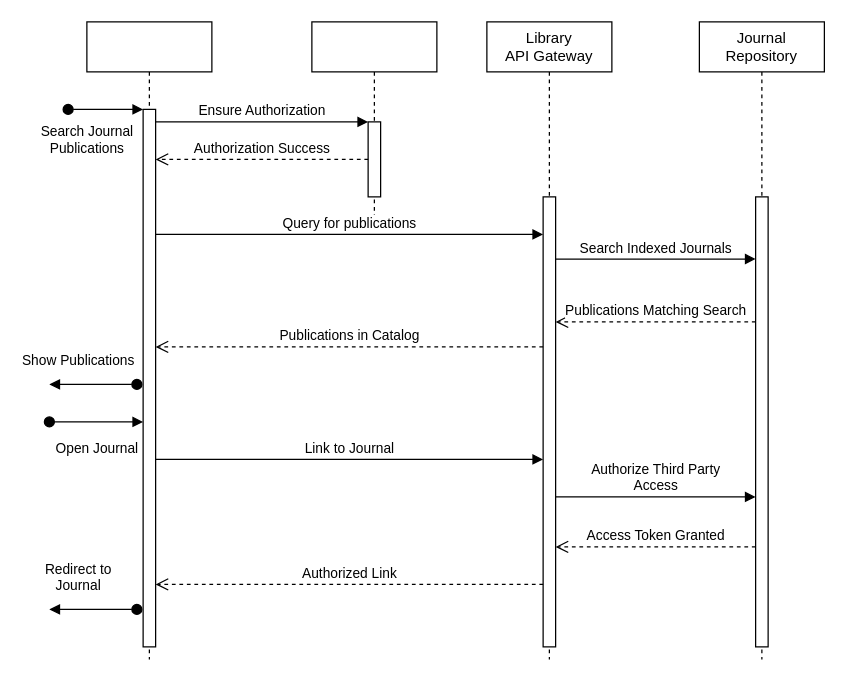
This 846x681 diagram has some shape labels left out. Each missing label, with the box of its shape:
Authentication: (311, 21, 437, 222)
Front-End: (86, 21, 212, 659)
